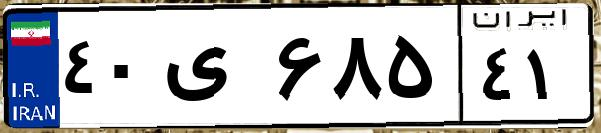0: (110, 28, 158, 98)
1: (525, 38, 570, 115)
4: (57, 26, 110, 100), (475, 38, 525, 113)
5: (385, 28, 445, 110)
6: (270, 28, 330, 110)
8: (330, 28, 385, 110)
ی: (158, 20, 270, 120)
